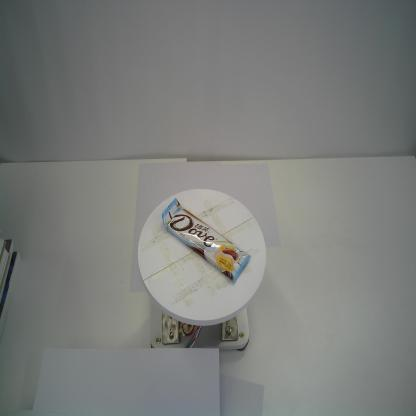Chocolate: (160, 194, 252, 285)
